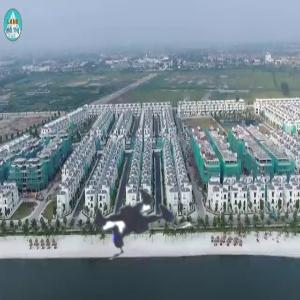drone: (59, 146, 211, 298)
